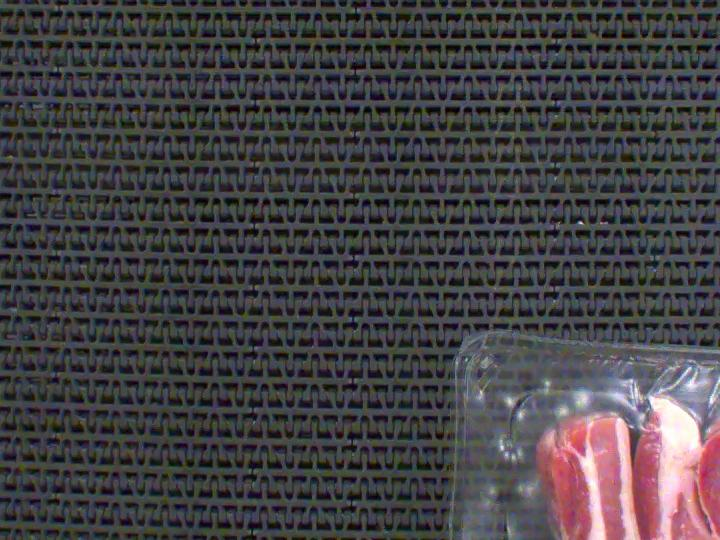unsealed: (458, 330, 720, 540)
